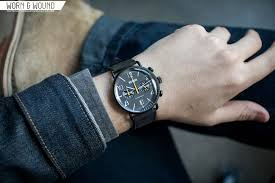clock: (115, 69, 157, 113)
